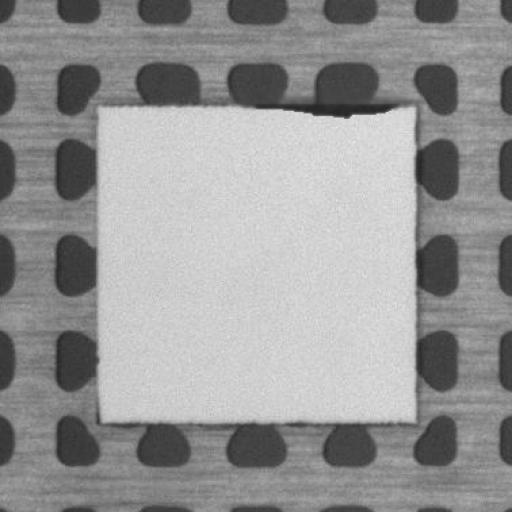DIE_BROKEN: (248, 94, 404, 119)
